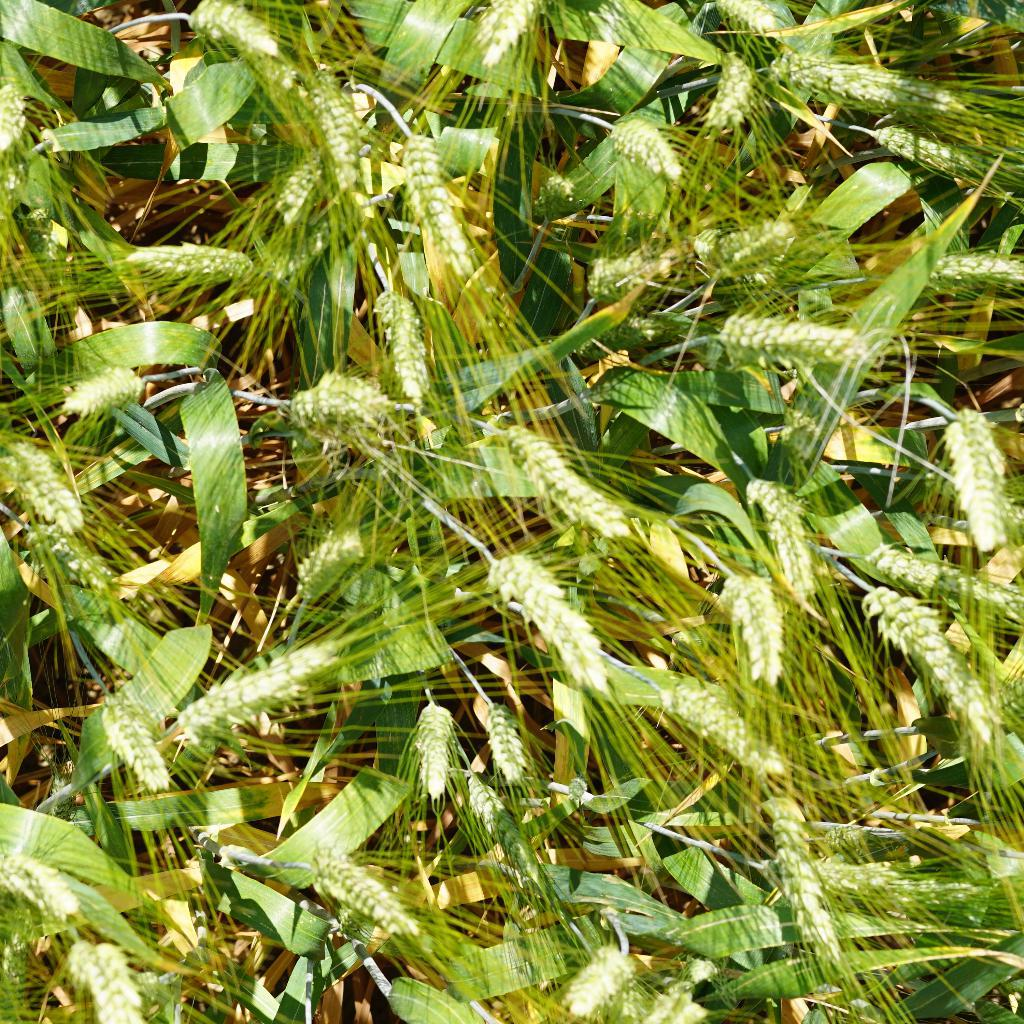0-0: (467, 526, 628, 698), (860, 580, 1006, 747), (747, 784, 859, 972), (488, 411, 639, 549), (172, 630, 351, 746), (770, 38, 982, 120), (460, 757, 567, 905), (654, 669, 791, 777), (870, 531, 1024, 626), (313, 836, 436, 952), (397, 122, 485, 275), (743, 468, 836, 608), (720, 301, 874, 385), (48, 920, 171, 1024), (934, 395, 1016, 545), (77, 683, 176, 799), (766, 843, 922, 915), (269, 366, 395, 451), (118, 225, 264, 298), (855, 112, 993, 186), (0, 429, 90, 542), (362, 291, 445, 411), (397, 679, 471, 811), (716, 557, 793, 681), (686, 204, 800, 286), (296, 74, 377, 185), (275, 519, 372, 602), (550, 930, 635, 1024), (580, 230, 681, 309), (0, 835, 84, 929), (32, 524, 131, 601), (702, 40, 778, 138), (52, 357, 153, 430), (477, 0, 563, 85), (597, 114, 701, 179), (253, 205, 335, 286), (184, 1, 293, 61), (481, 686, 539, 795), (265, 139, 331, 234), (920, 232, 1024, 292), (620, 965, 710, 1024), (1, 911, 43, 1023), (522, 164, 582, 230), (0, 73, 34, 167), (697, 0, 785, 32)
